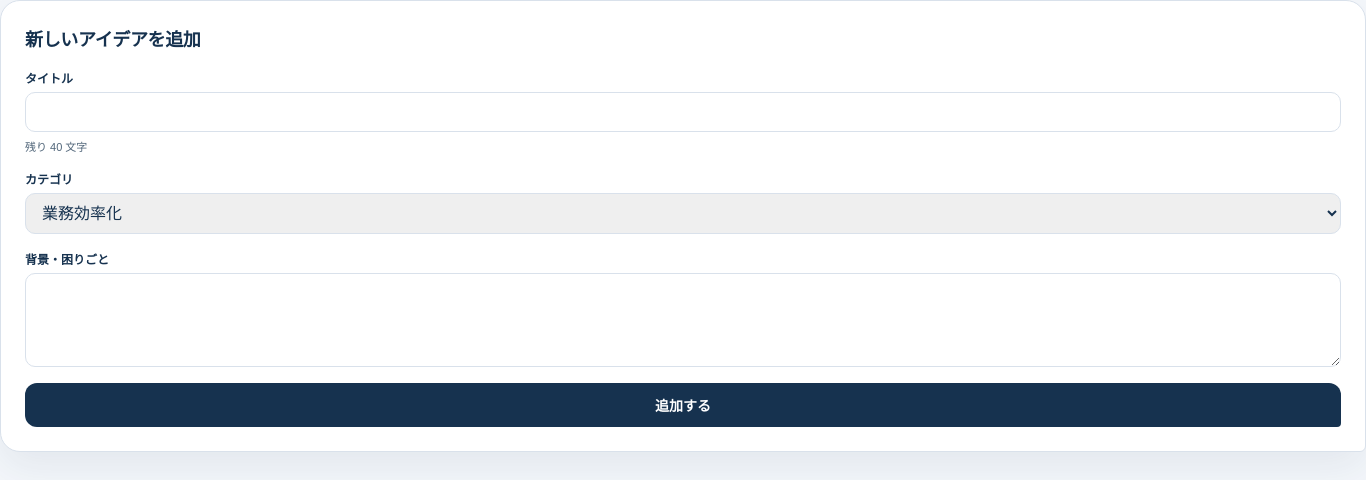
it: Ticket C: アイデア追加フォーム › タイトルの残り文字数を表示する
expect the text "残り 40 文字" is shown: met, box [25, 141, 87, 153]
Type "こんにちは" into the field labelled "タイトル" at (683, 112), box [25, 92, 1341, 132]
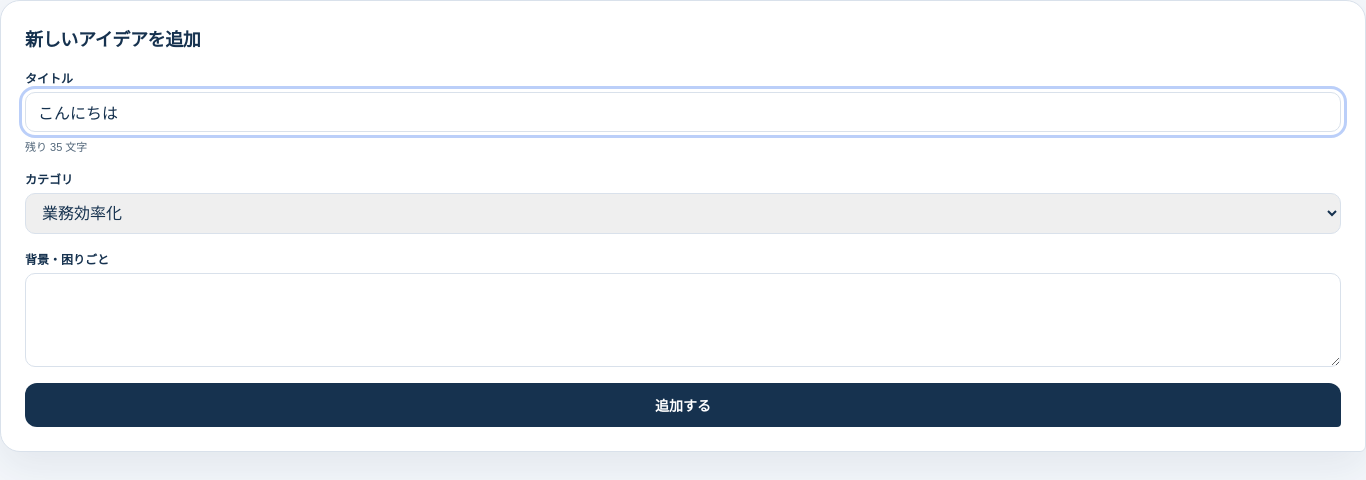
expect the text "残り 35 文字" is shown: met, box [25, 141, 87, 153]
